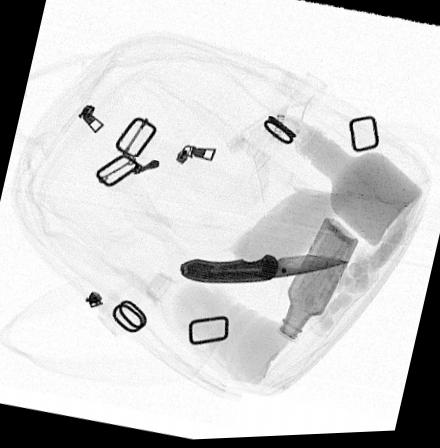Knife: (180, 256, 349, 285)
